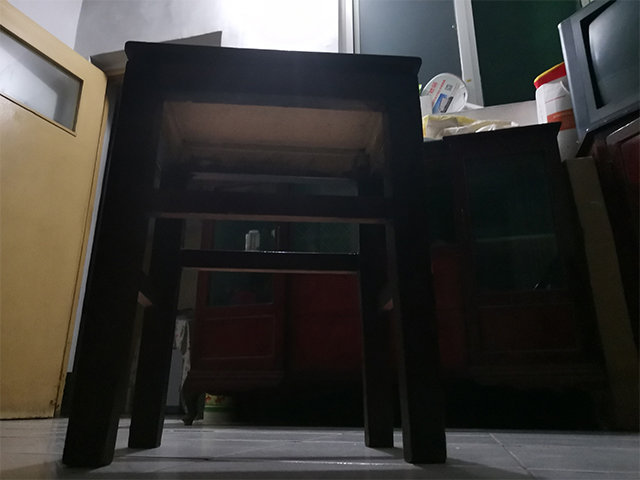cabinet: (178, 120, 617, 429)
stool: (57, 38, 448, 470)
